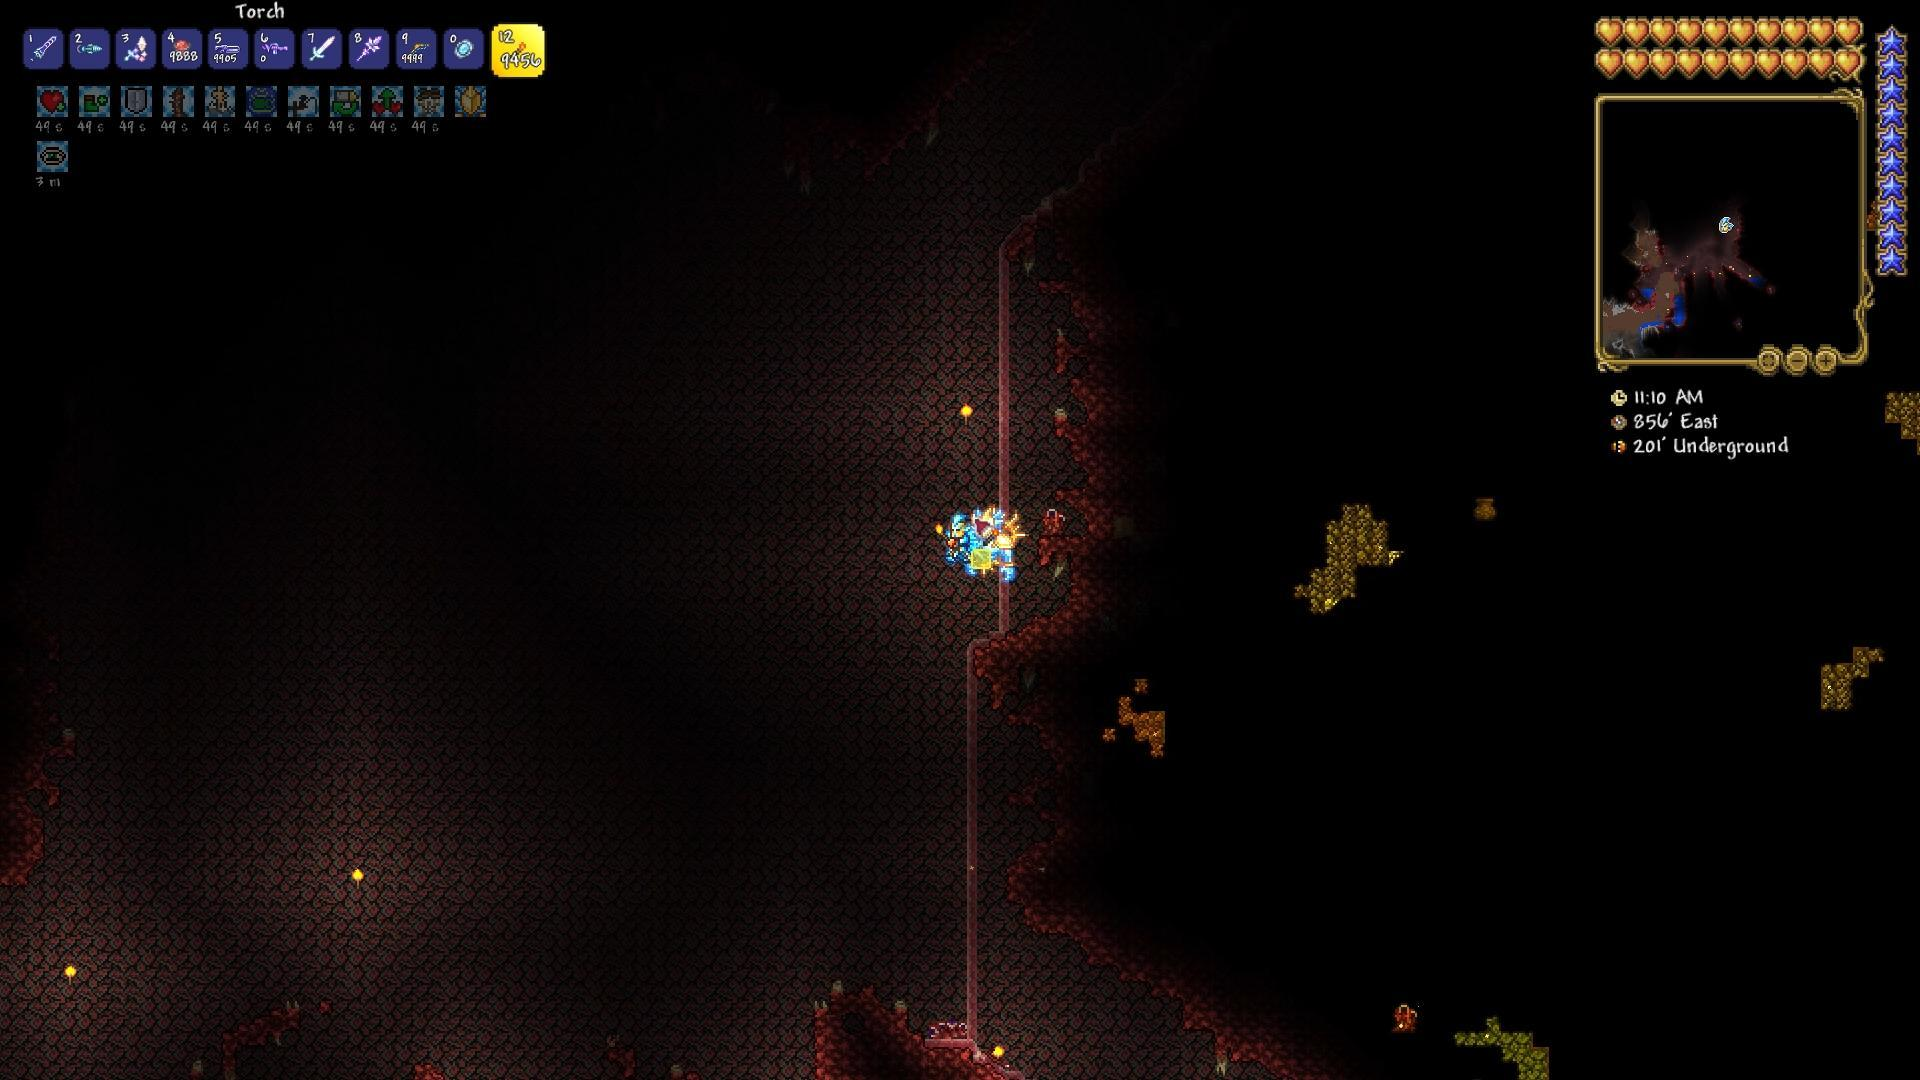altar: (928, 1014, 975, 1048)
